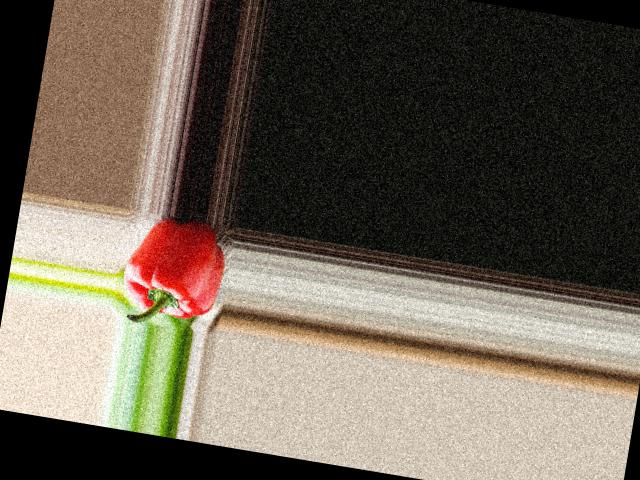bell_pepper: (114, 208, 229, 332)
